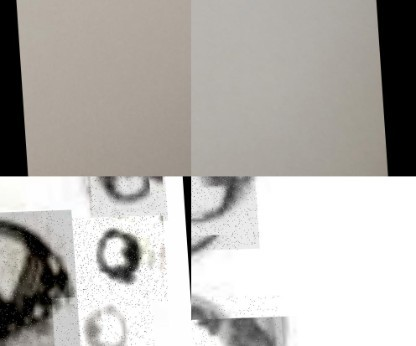ironball: (0, 211, 78, 345), (61, 218, 164, 306), (191, 176, 257, 252), (47, 297, 151, 345), (191, 296, 283, 345), (83, 176, 165, 226)
